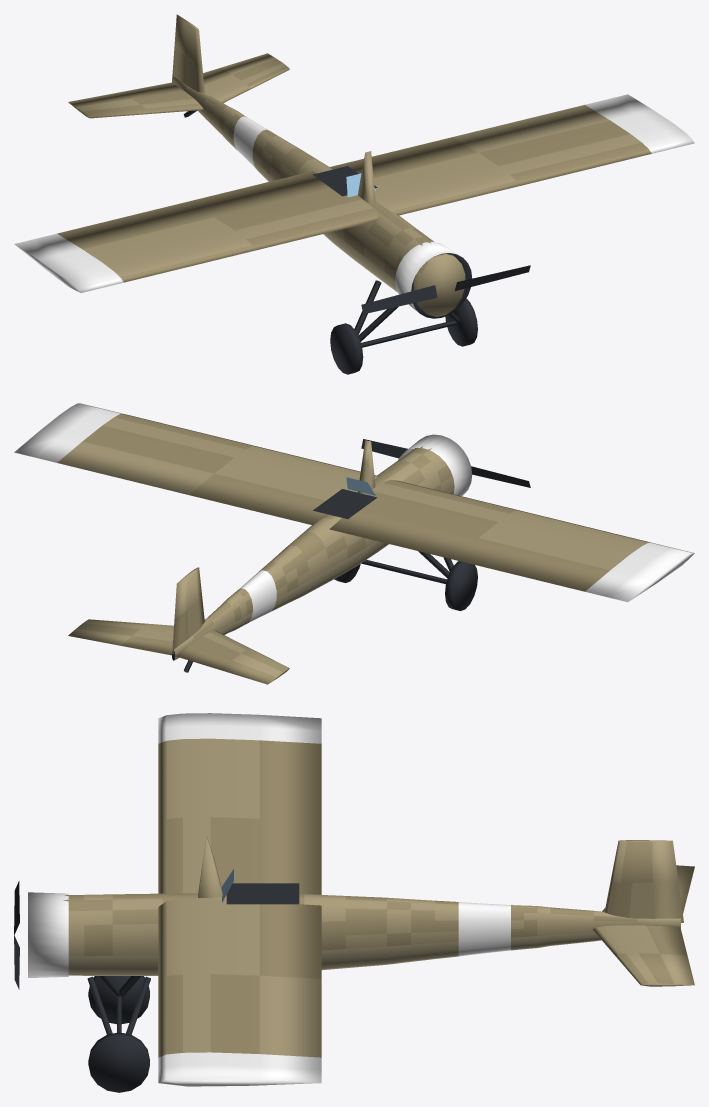
Rendered from fokker_e3.glb.
3 views of the same model, one above another, from view 1: azimuth 30°, elevation 25°; view 2: azimuth 150°, elevation 25°; view 3: azimuth 270°, elevation 25° (orthographic). The views are drawn at different scales.
Parts seen in each view (by area): view 1: body, prop; view 2: body, prop; view 3: body.
Boxes of the visible parts, x1=… form: body: x1=14, y1=14, x2=694, y2=374; prop: x1=361, y1=265, x2=530, y2=314; body: x1=14, y1=403, x2=694, y2=684; prop: x1=361, y1=439, x2=530, y2=487; body: x1=28, y1=713, x2=694, y2=1092.
Size of the model in its own units: 9.52 by 2.67 by 7.51.
